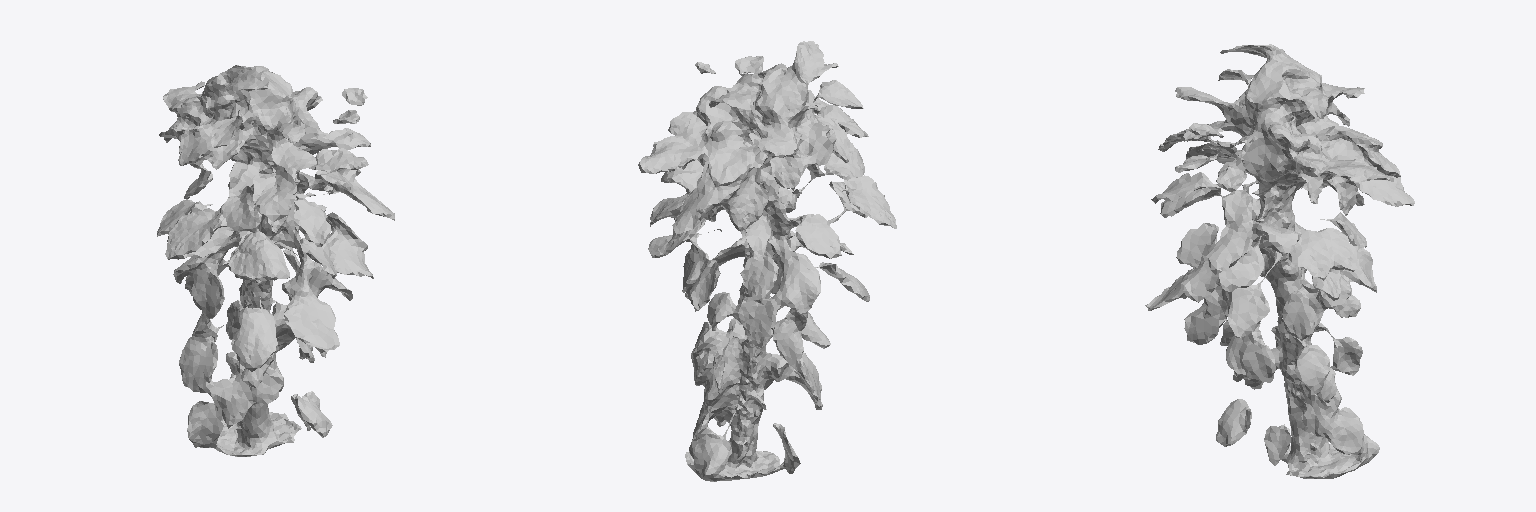
Rendered from 3DModel.obj.
The picture shows the model from 3 angles: view 1: azimuth 30°, elevation 25°; view 2: azimuth 150°, elevation 25°; view 3: azimuth 270°, elevation 25°; orthographic projection.
Visible parts, largest first — view 1: submesh; view 2: submesh; view 3: submesh.
Part boxes in pixels (bbox=[...]): submesh: bbox=[157, 65, 394, 456]; submesh: bbox=[638, 41, 896, 481]; submesh: bbox=[1145, 44, 1414, 478].
Size of the model in its own units: 0.7872 by 1.41 by 0.8476.